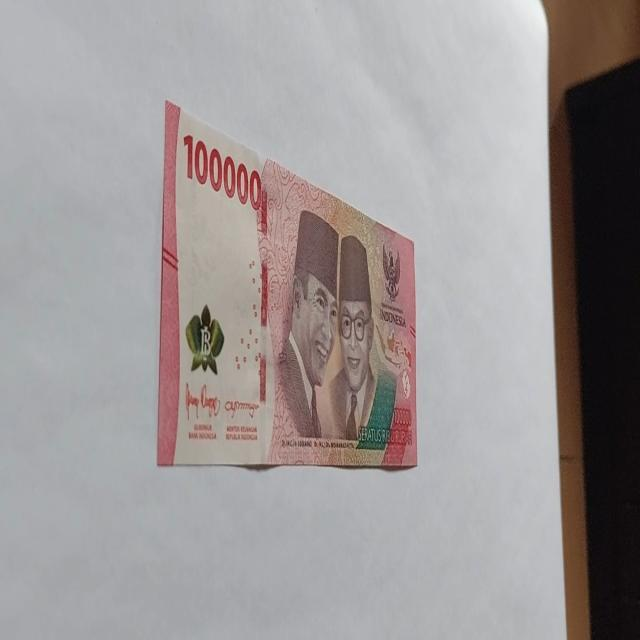seratus ribu rupiah: (256, 158, 416, 468)
